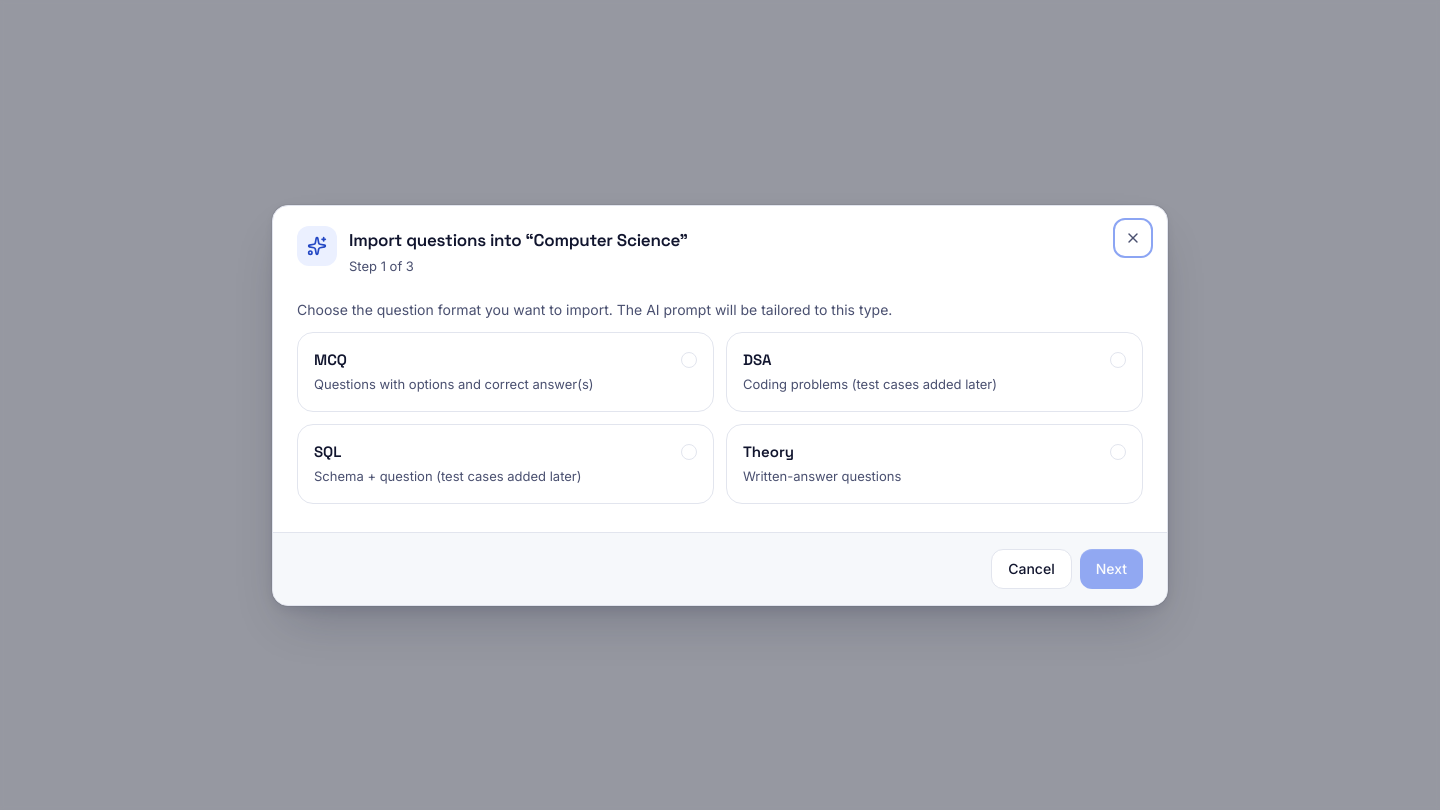
Test: QuestionImportDialog › 7. Backend errors show the mapped inline message and no global toast
The image size is (1440, 810).
Click the text "MCQ".
click(330, 360)  # box [314,348,347,371]
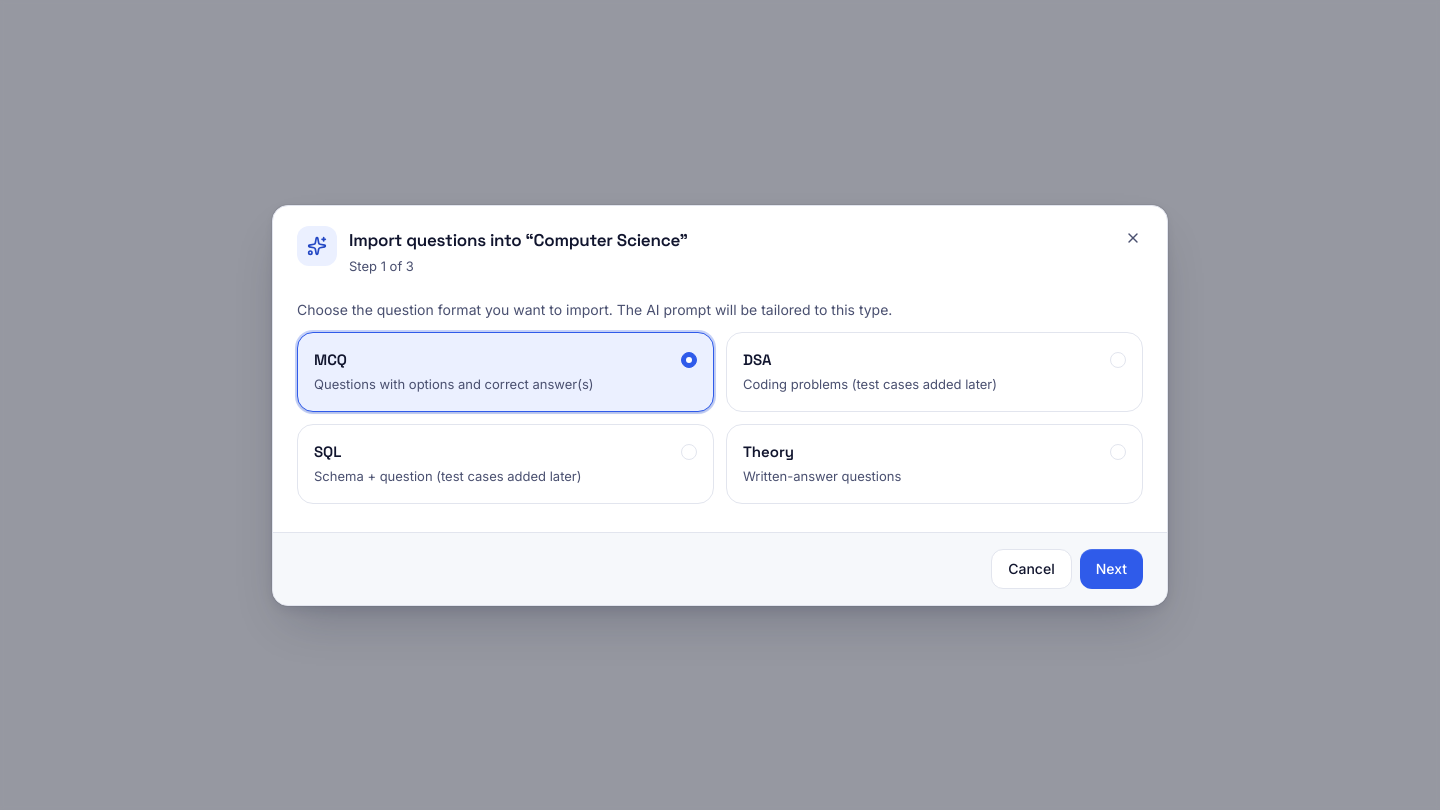
Click the button "Next".
click(1111, 568)  # box [1080,548,1143,588]
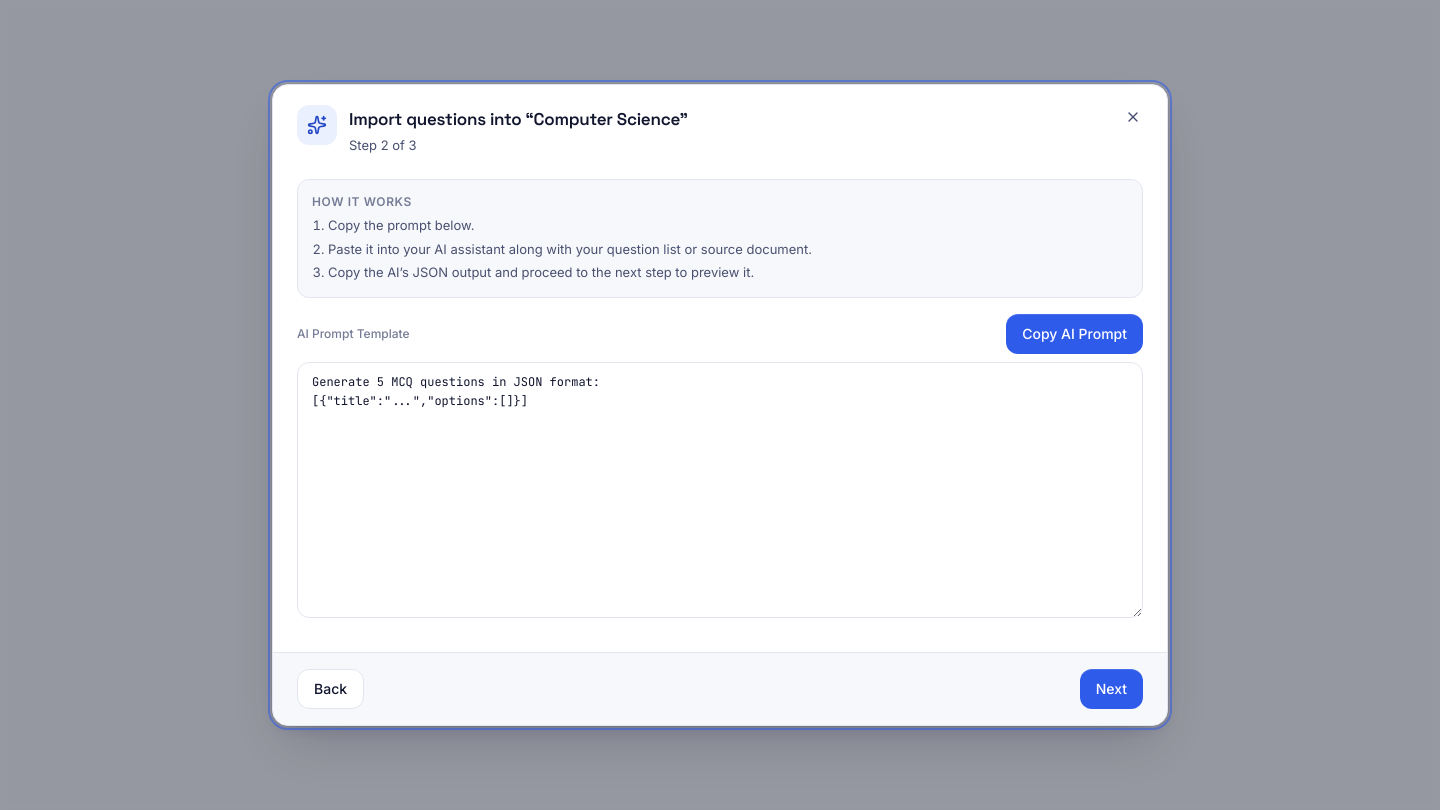
Click the button "Next".
click(1111, 689)  # box [1080,669,1143,709]
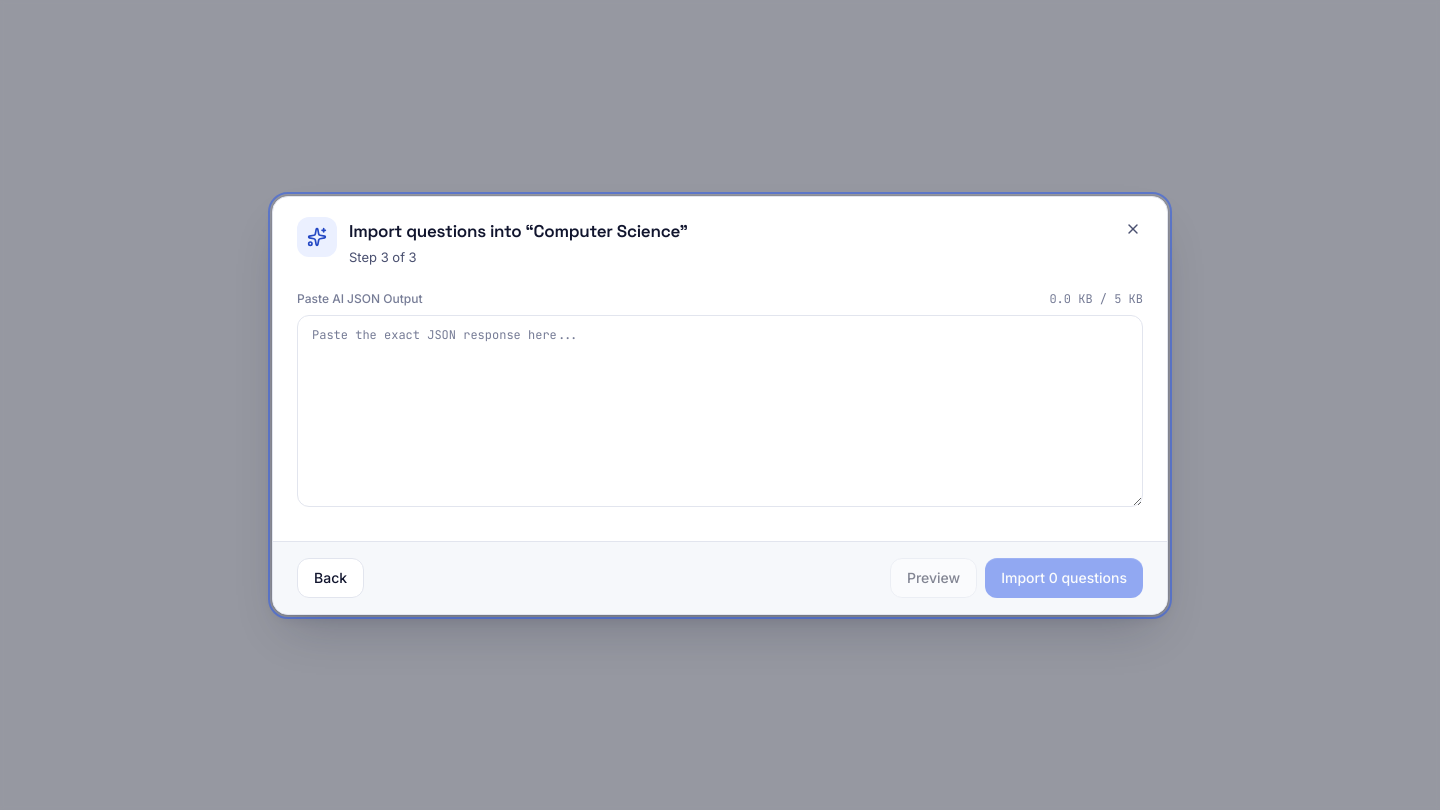
Type "bad json" into the text box with placeholder "Paste the exact JSON response here...".
click(720, 410); type("bad json")  # box [297,314,1143,506]
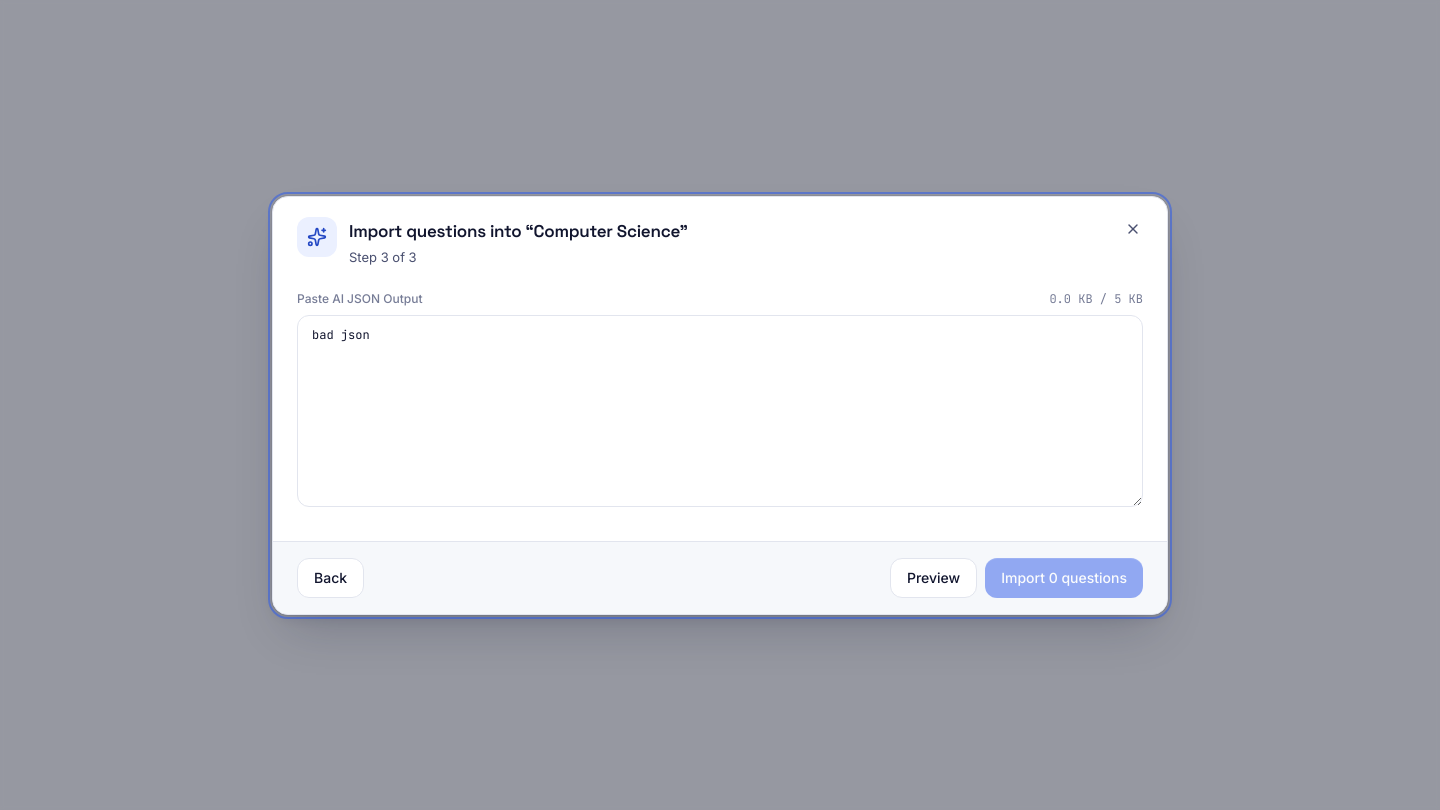
Click the button "Preview".
click(934, 578)  # box [890,558,977,598]
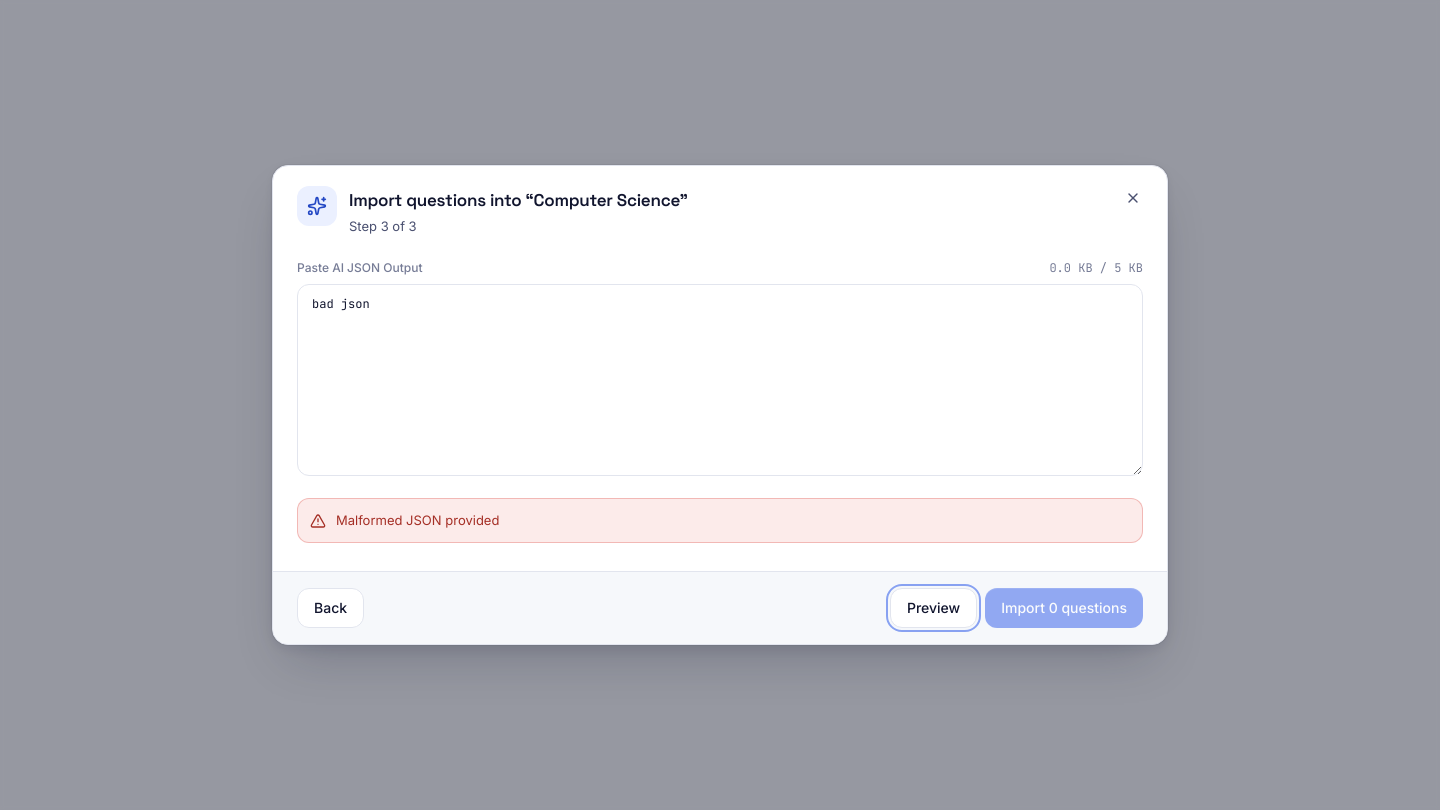
Now the message reads "Malformed JSON provided", box [336,512,499,528]
